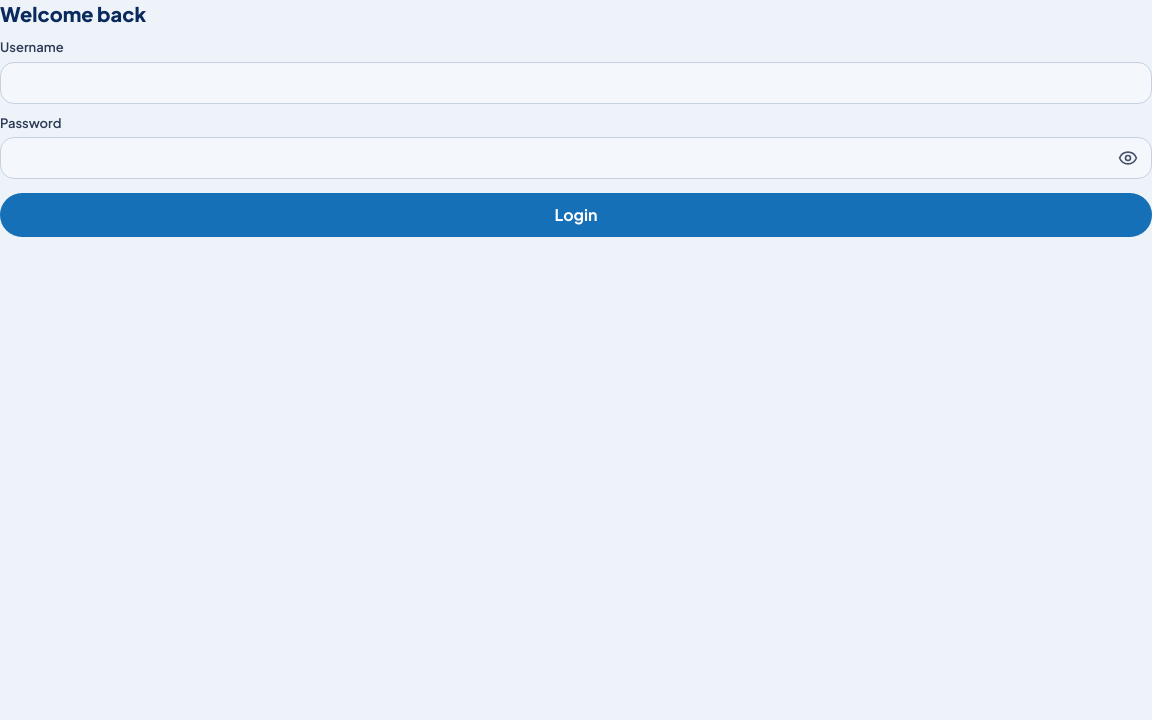
LoginPage › signs in with the username email and shows "Invalid Username or Password", OK goes back
In the field labelled "Username": {"x": 576, "y": 82} [0,62,1151,104], type "Maria.Reyes"
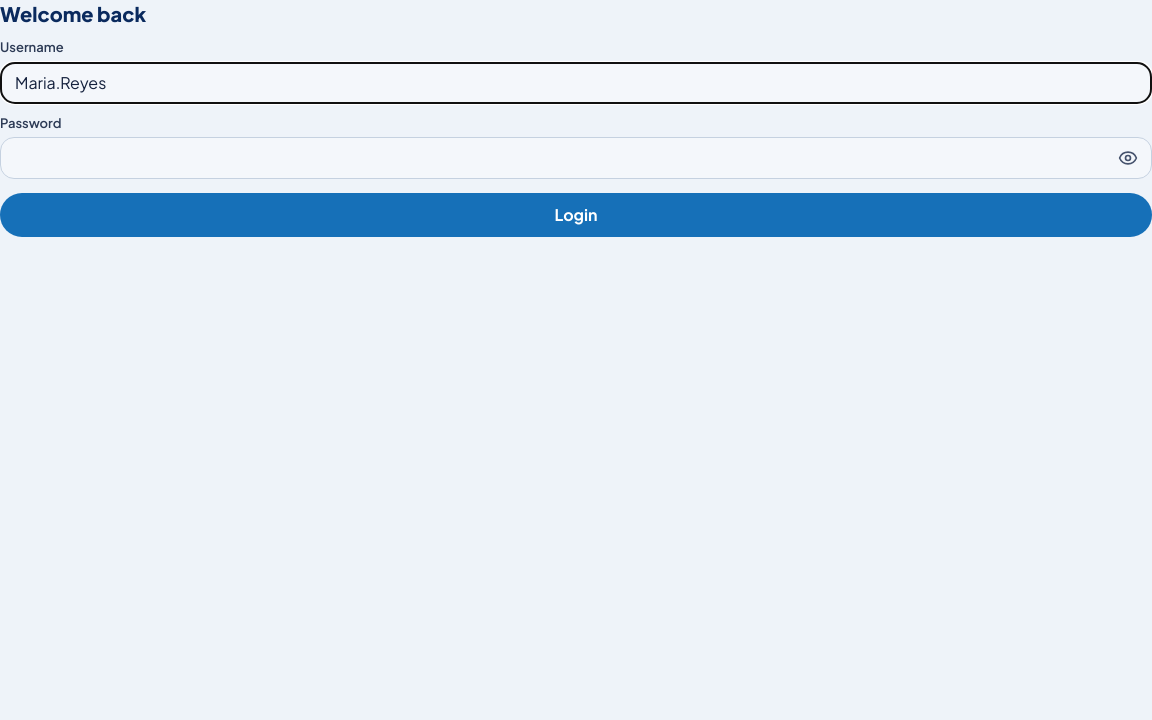
In the password field labelled "Password": {"x": 553, "y": 158} [1,138,1105,178], type "wrong-pass"
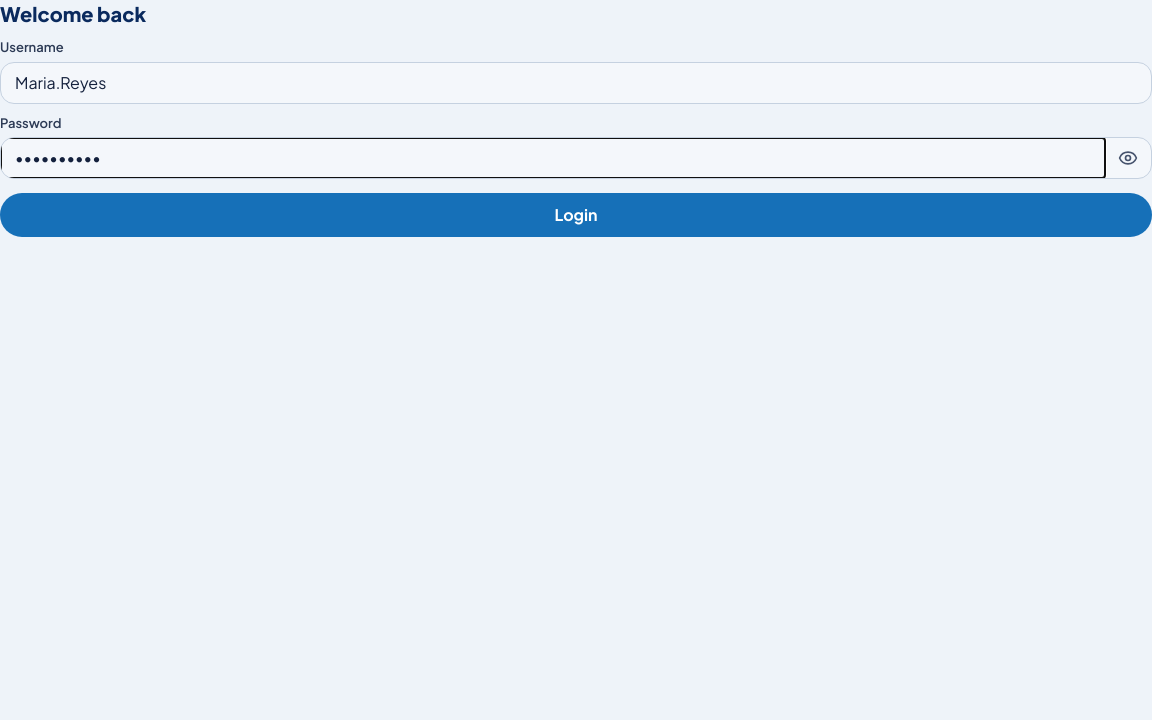
Click the button "Login": {"x": 576, "y": 215} [0,193,1151,237]
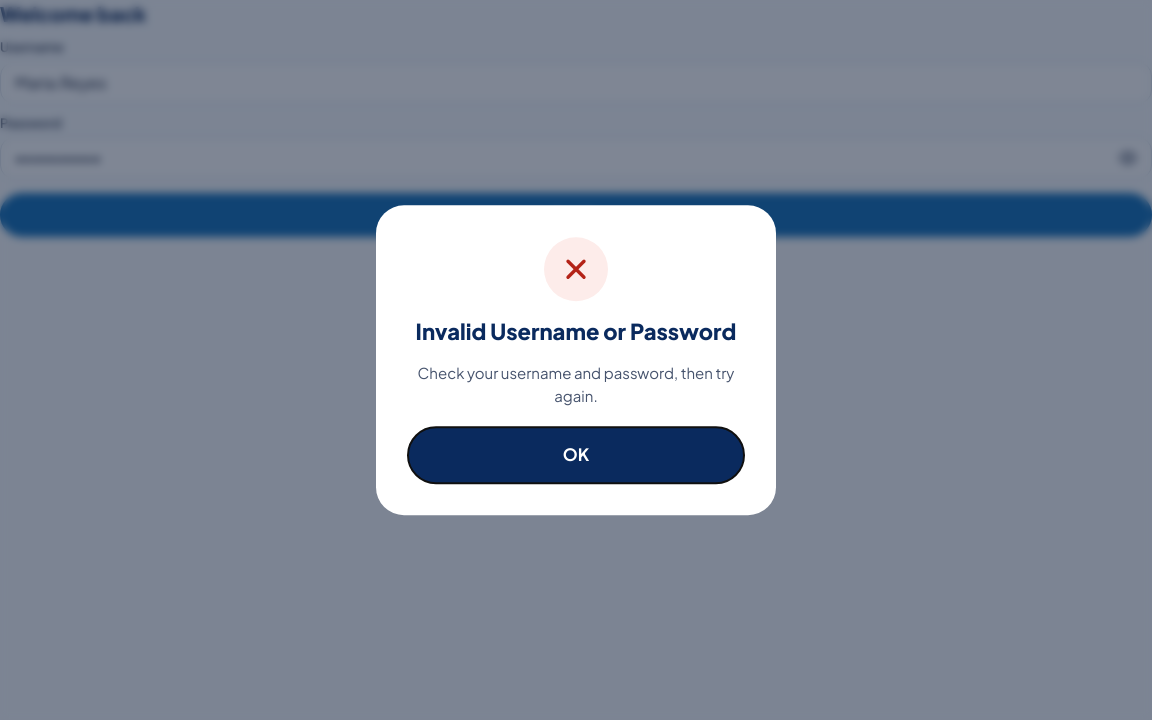
Result: the dialog shows "Invalid Username or Password" at [416,317,736,345]
Click the button "OK": {"x": 576, "y": 455} [408,427,744,483]
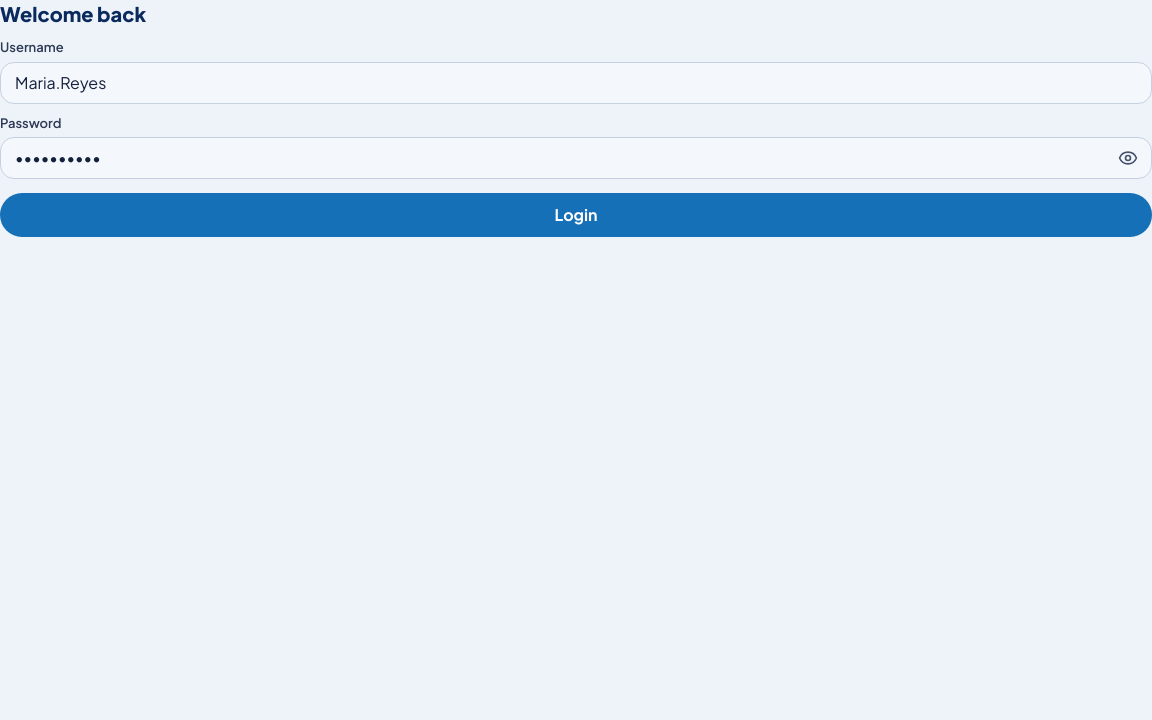
Result: the heading "Invalid Username or Password" is gone
